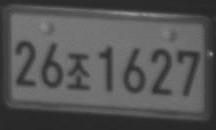1: (96, 46, 118, 91)
2: (150, 48, 174, 95), (14, 40, 36, 87)
6: (40, 42, 64, 88), (122, 48, 146, 94)
7: (177, 50, 201, 97)
조: (66, 52, 91, 91)
